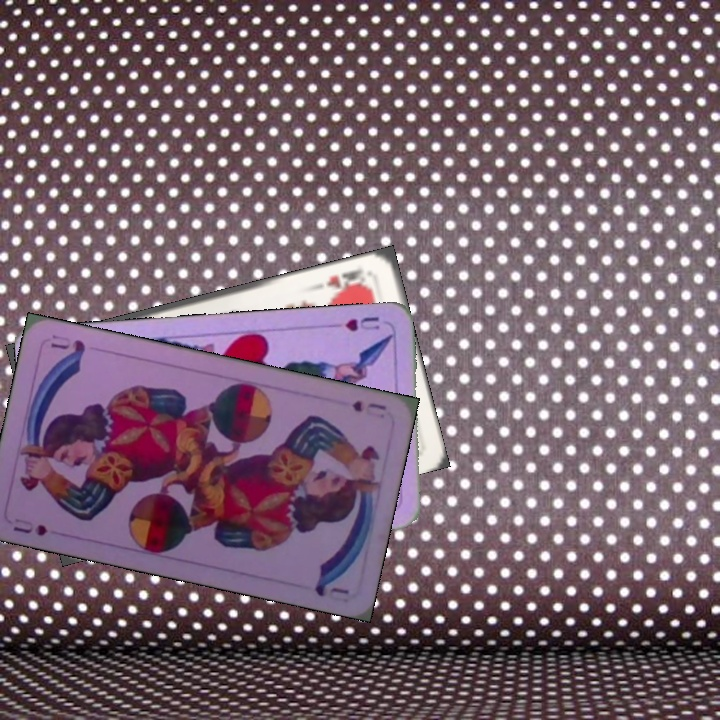HK: (322, 265, 370, 296)
HU: (341, 312, 382, 334)
SU: (9, 514, 50, 539), (347, 396, 389, 415)
